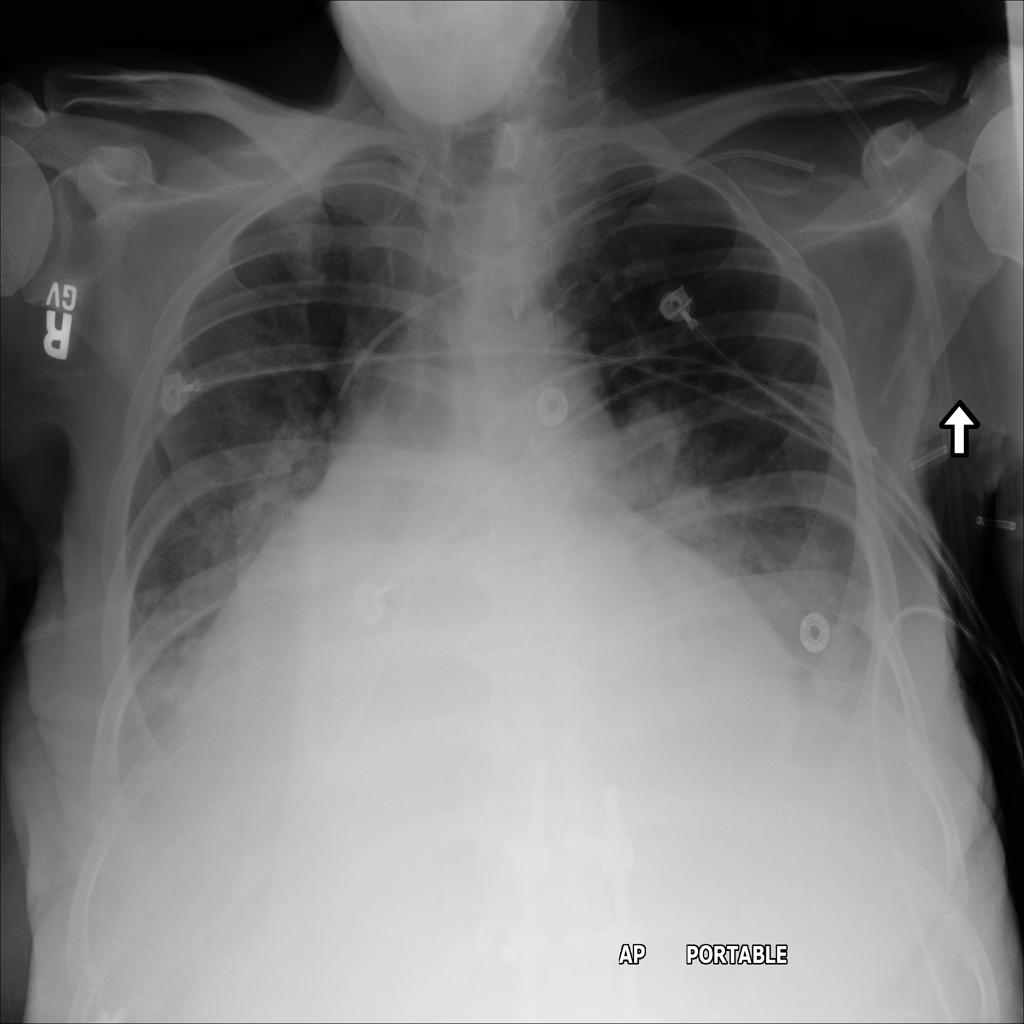Cardiomegaly: (169, 406, 831, 825)
